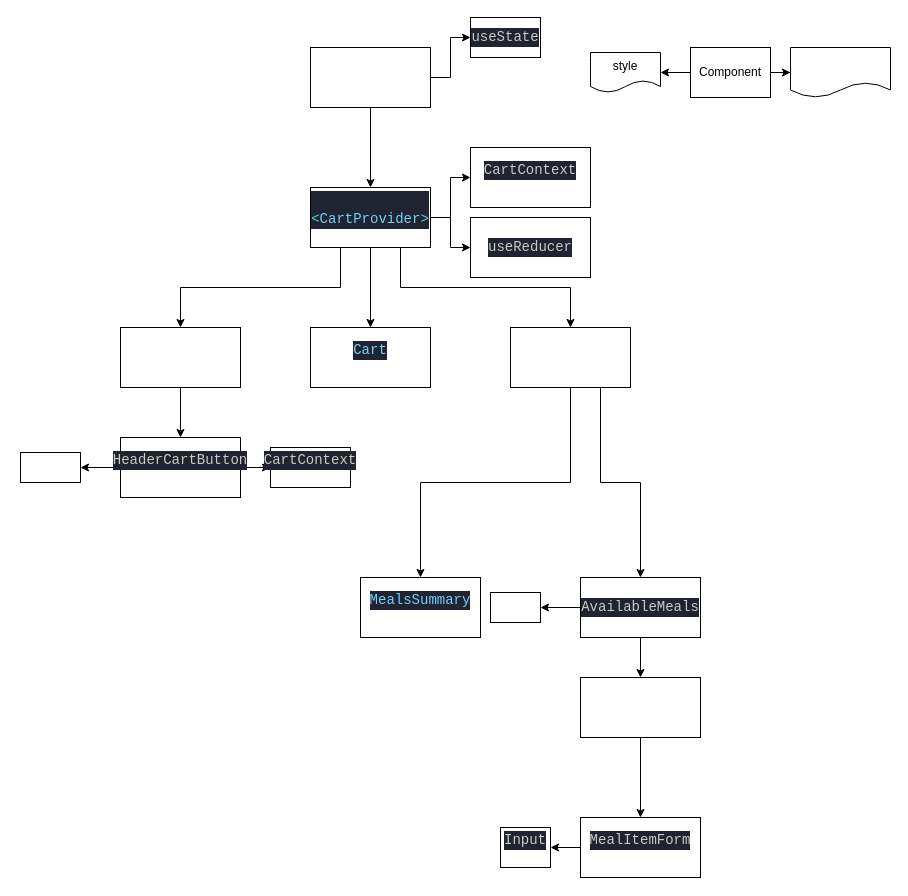
This 908x896 diagram has some shape labels left out. Here are the shapes that lost their labels. From the top down, the box of each, then its label:
(310, 46, 430, 108): App.js
(790, 46, 890, 98): information
(120, 326, 240, 388): Header
(510, 326, 630, 388): Meals
(20, 452, 80, 482): CartIcon
(490, 592, 540, 622): card
(580, 676, 700, 738): MealItem
